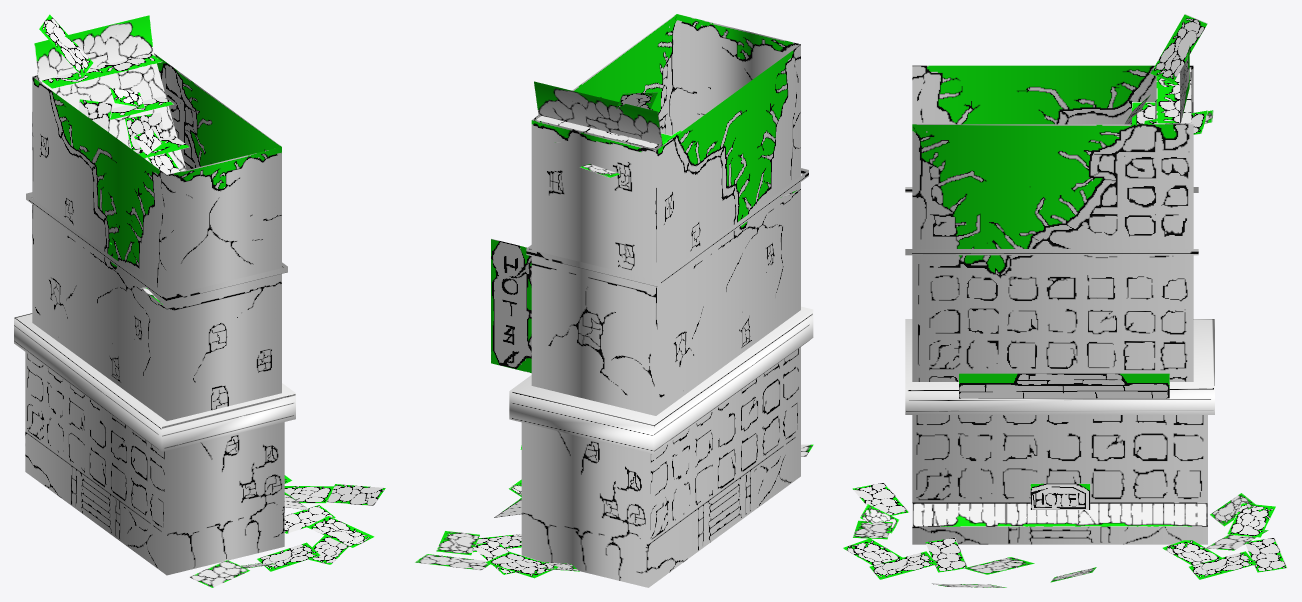
The model's file is Building_04.fbx.
3 views of the same model, side by side, from view 1: azimuth 30°, elevation 25°; view 2: azimuth 150°, elevation 25°; view 3: azimuth 270°, elevation 25° (orthographic). The views are drawn at different scales.
Visible parts, largest first — view 1: Building_04; view 2: Building_04; view 3: Building_04.
Part boxes in pixels (x1,y1,x2,y2): Building_04: (14, 14, 385, 587); Building_04: (414, 14, 813, 587); Building_04: (843, 14, 1287, 587).
Bounding box in the file's own units: 91.84 × 165 × 138.
